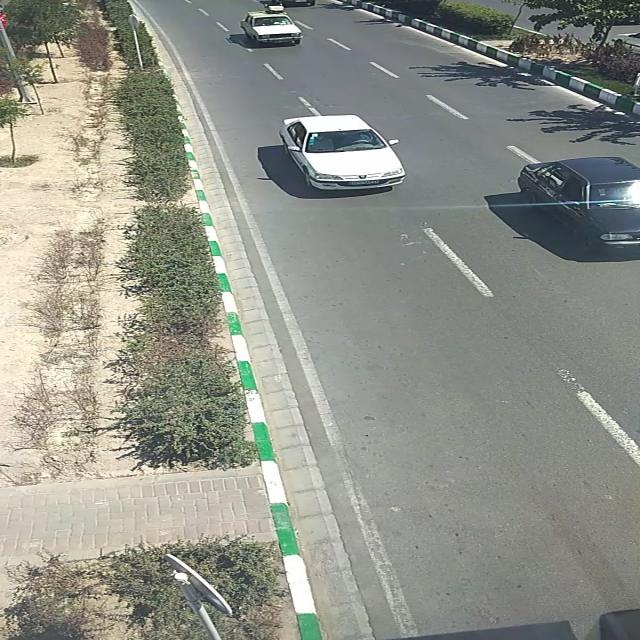car: (519, 158, 640, 254), (279, 116, 405, 192), (240, 10, 303, 44)
